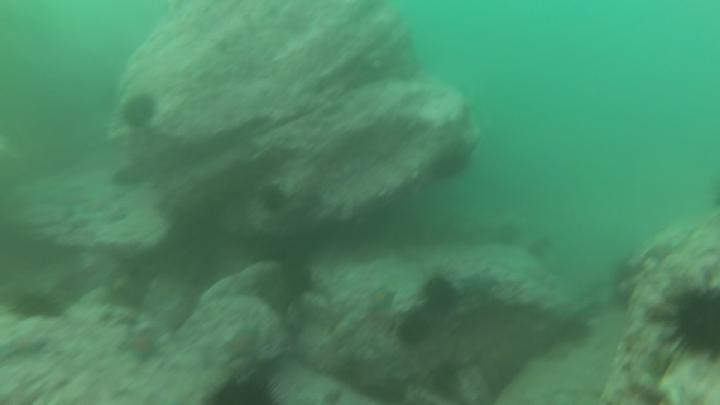echinus: (667, 284, 720, 364), (204, 378, 283, 405), (420, 274, 463, 314), (119, 91, 160, 130), (11, 292, 63, 321), (439, 147, 473, 184), (283, 264, 316, 302), (395, 312, 430, 347), (260, 184, 294, 217)
starfish: (115, 325, 174, 367), (222, 328, 265, 365), (367, 285, 400, 316)
